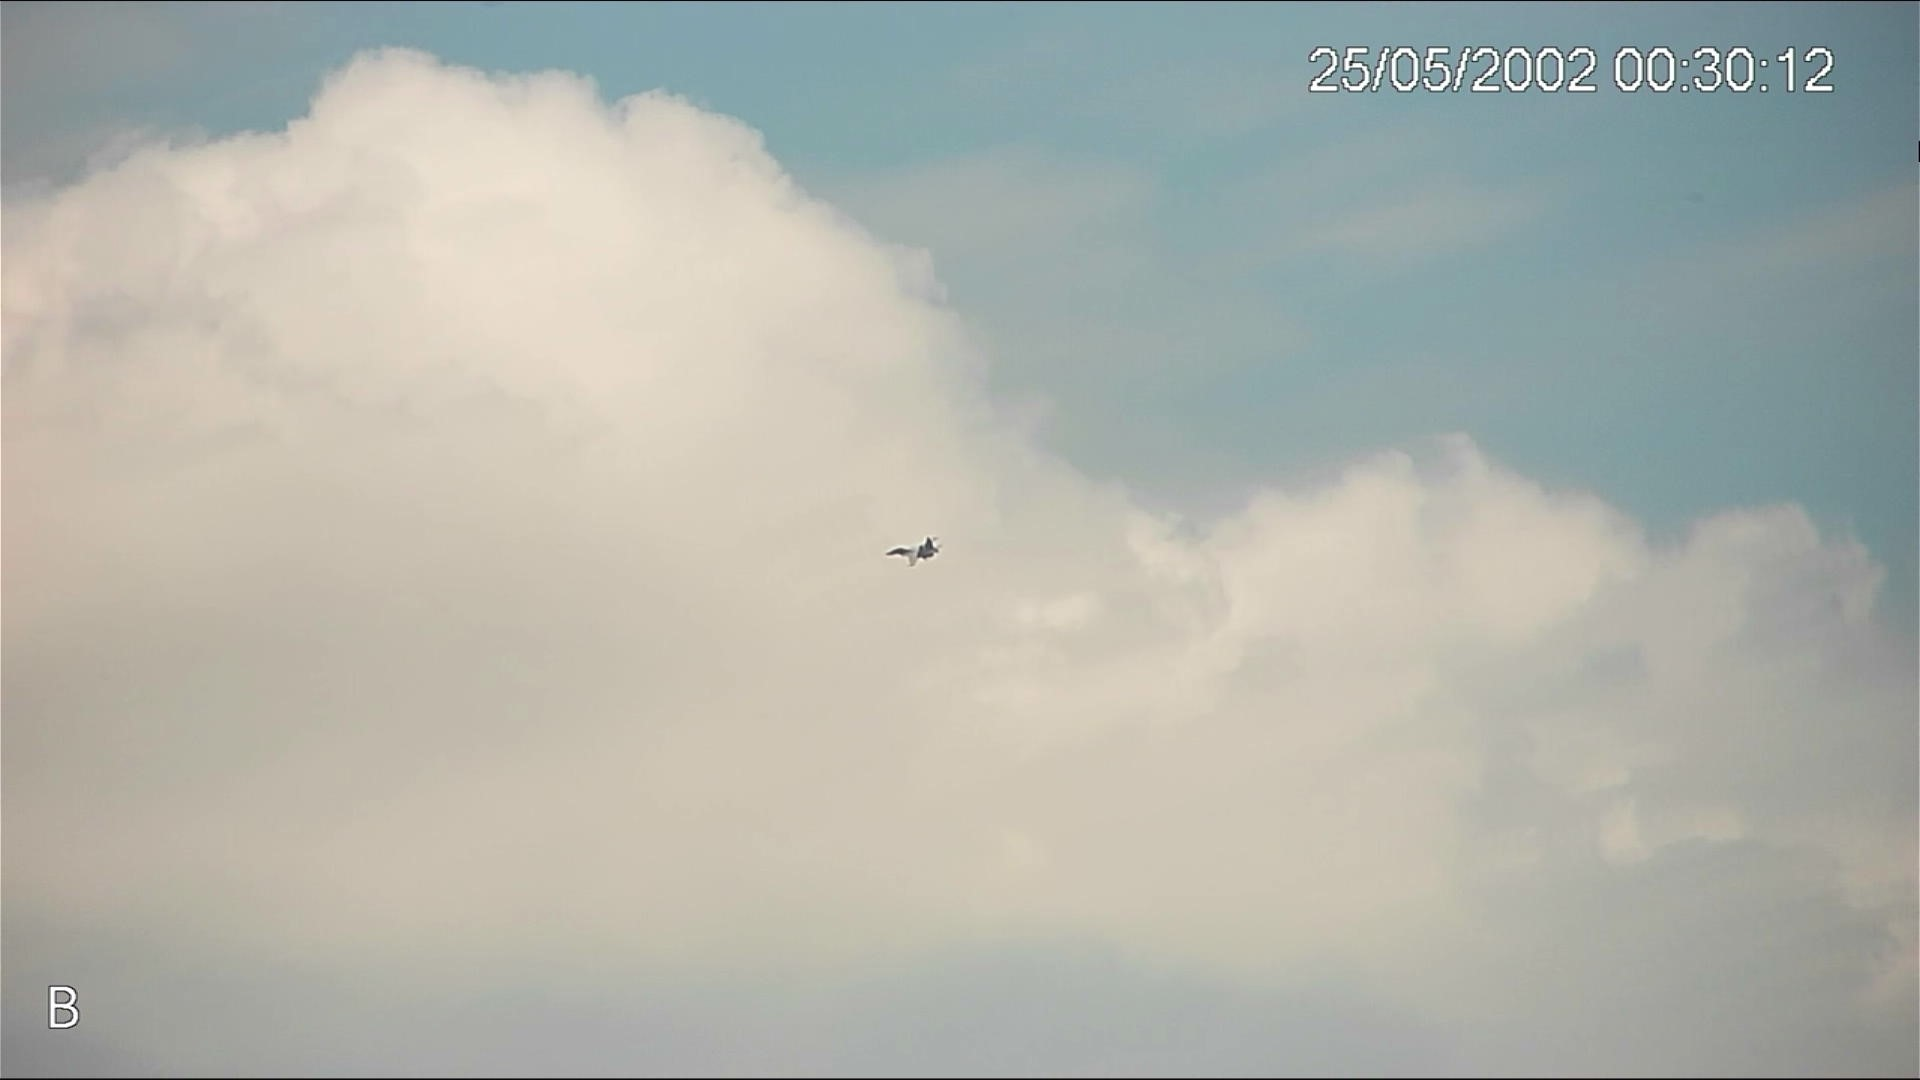SU_30: (884, 535, 943, 568)
